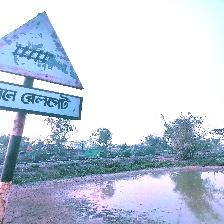Rail-crossing: (0, 10, 85, 122)
